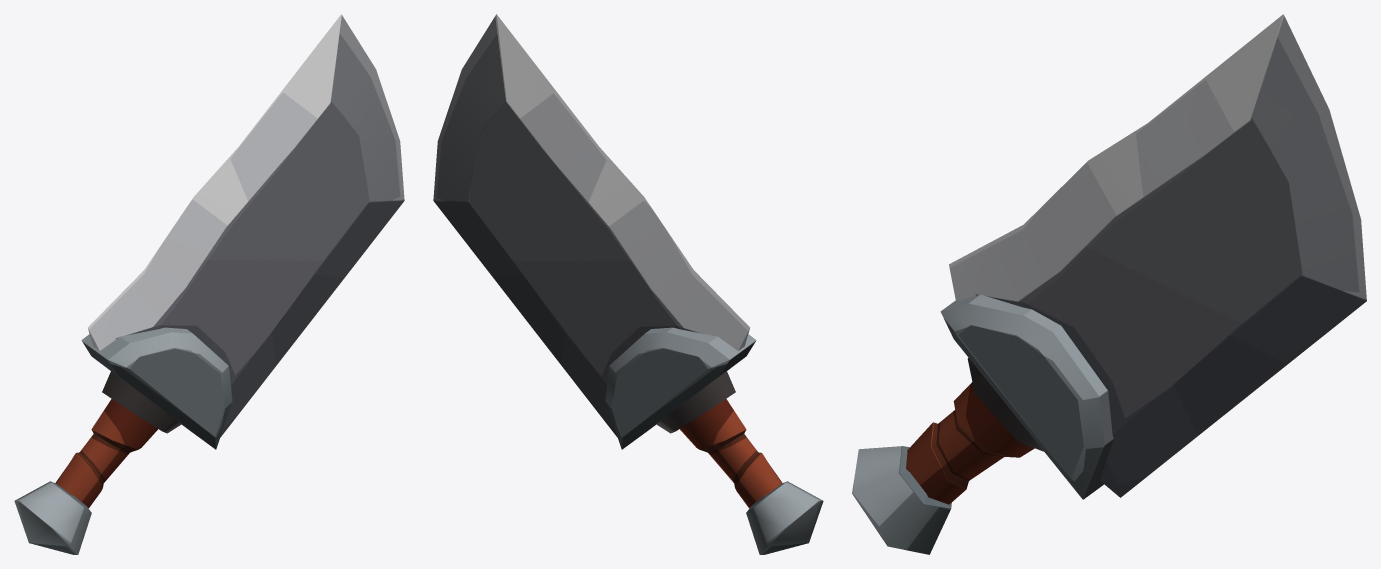
Rendered from Hard_01.FBX.
The picture shows the model from 3 angles, left to right: view 1: azimuth 30°, elevation 25°; view 2: azimuth 150°, elevation 25°; view 3: azimuth 330°, elevation 25°; orthographic projection. The views are drawn at different scales.
Visible parts, largest first — view 1: Hard_01; view 2: Hard_01; view 3: Hard_01.
Part boxes in pixels (x1,y1,x2,y2): Hard_01: (14, 14, 404, 554); Hard_01: (433, 14, 823, 554); Hard_01: (852, 14, 1366, 554).
Size of the model in its own units: 66.12 by 78 by 11.02.
